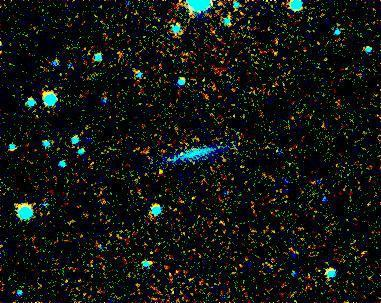star: (144, 154, 174, 184)
